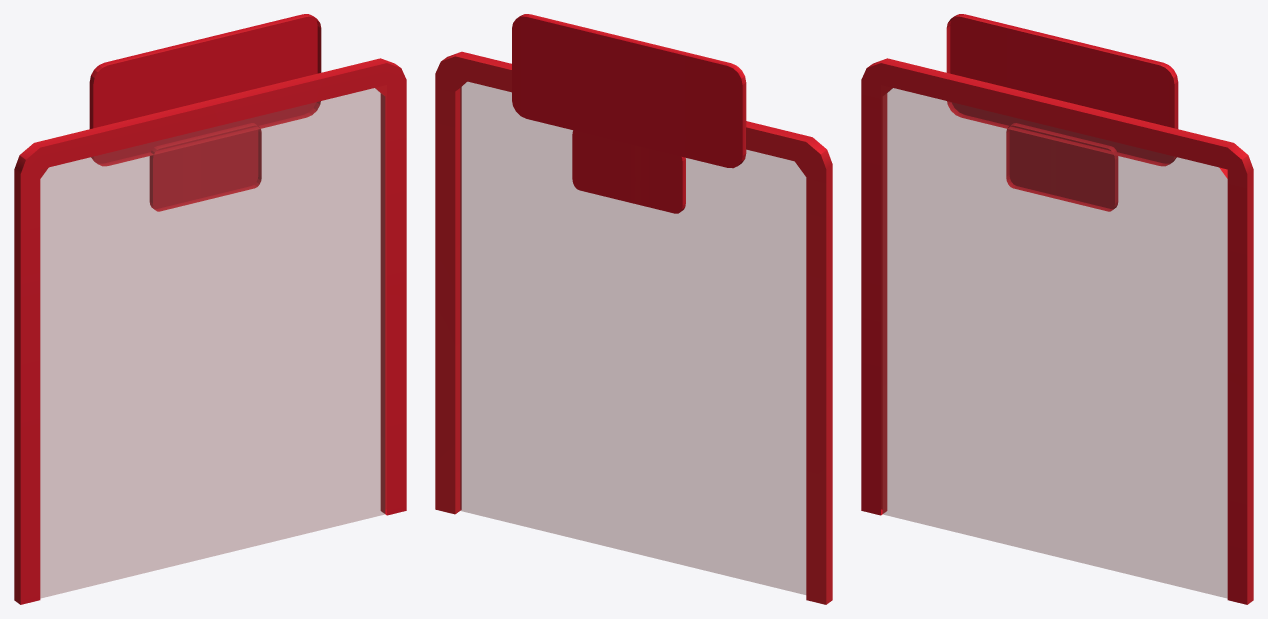
The model's file is gate_redone.fbx.
The picture shows the model from 3 angles, left to right: view 1: azimuth 30°, elevation 25°; view 2: azimuth 150°, elevation 25°; view 3: azimuth 330°, elevation 25°; orthographic projection.
Visible parts, largest first — view 1: Gate_redone; view 2: Gate_redone; view 3: Gate_redone.
Part boxes in pixels (x1,y1,x2,y2): Gate_redone: (14, 14, 406, 604); Gate_redone: (435, 14, 832, 604); Gate_redone: (861, 14, 1253, 604).
Size of the model in its own units: 884 by 1120 by 39.36.
